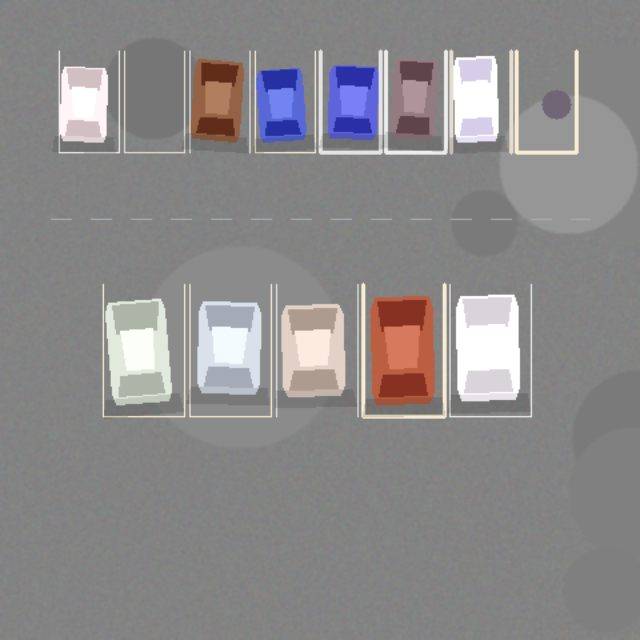space-empty: (124, 51, 184, 152), (516, 51, 576, 152)
space-occupied: (189, 284, 271, 416), (449, 284, 531, 416), (103, 284, 184, 416), (276, 284, 357, 416), (363, 284, 444, 416), (59, 51, 119, 152), (189, 51, 249, 152), (255, 51, 315, 152), (320, 51, 380, 152), (385, 51, 445, 152), (451, 51, 511, 152)
